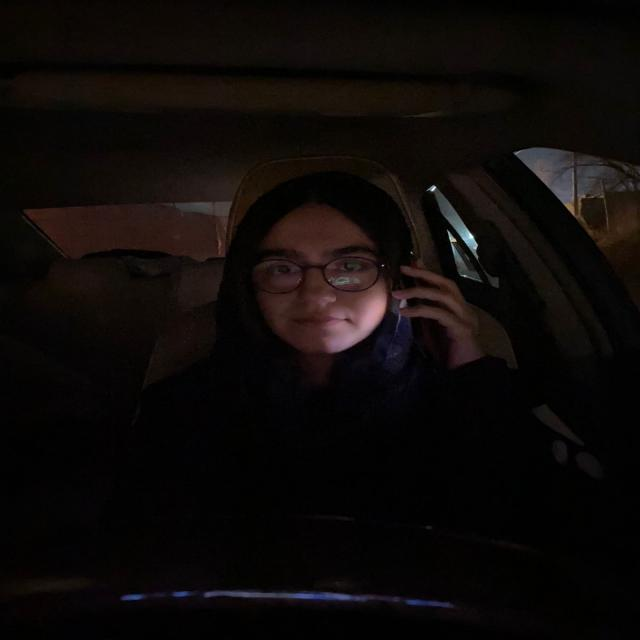person: (233, 188, 399, 363)
